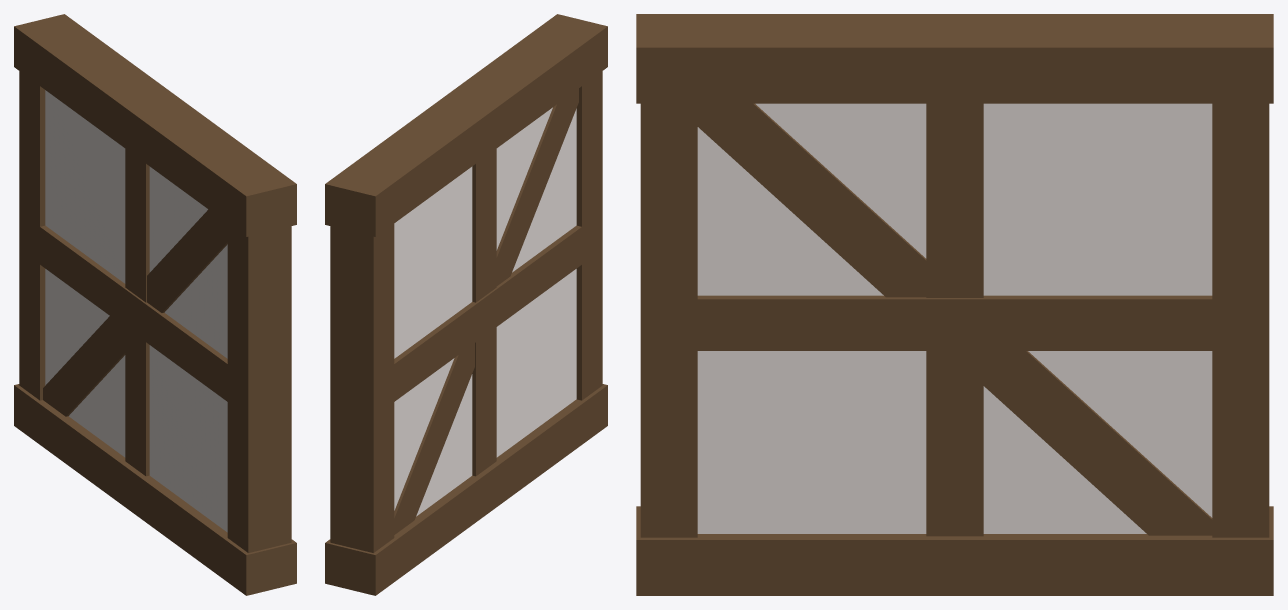
The model's file is Wall05.fbx.
The picture shows the model from 3 angles, left to right: view 1: azimuth 30°, elevation 25°; view 2: azimuth 150°, elevation 25°; view 3: azimuth 270°, elevation 25°; orthographic projection. The views are drawn at different scales.
Parts seen in each view (by area): view 1: Wall_01; view 2: Wall_01; view 3: Wall_01.
Boxes of the visible parts, x1,y1,x2,y2 form: Wall_01: (14, 14, 296, 595); Wall_01: (325, 14, 607, 595); Wall_01: (636, 14, 1273, 595).
Bounding box in the file's own units: 28 × 212 × 223.
